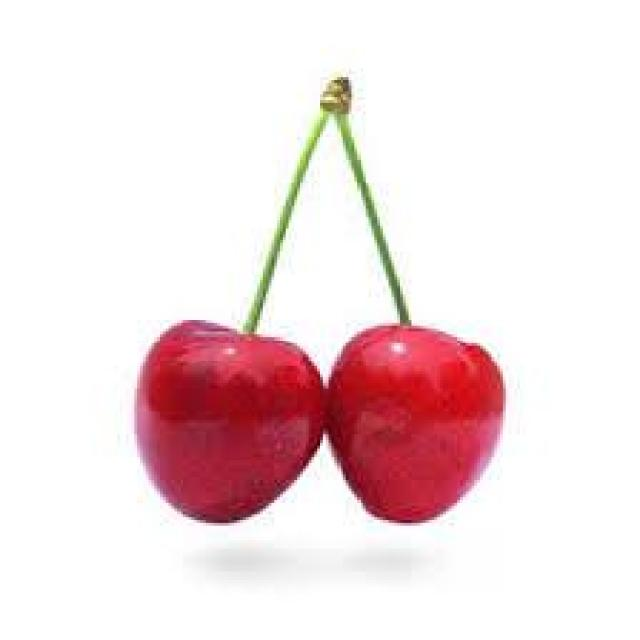organic: (137, 74, 509, 526)
